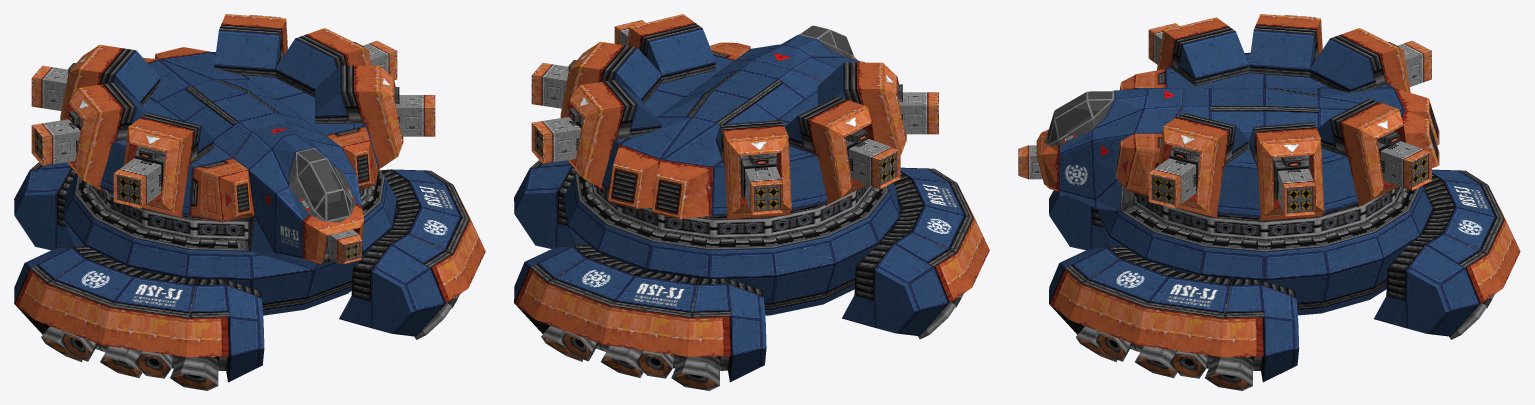
File: falcon.glb
3 views of the same model, side by side, from view 1: azimuth 30°, elevation 25°; view 2: azimuth 150°, elevation 25°; view 3: azimuth 270°, elevation 25° (orthographic).
Visible parts, largest first — view 1: Blue Falcon; view 2: Blue Falcon; view 3: Blue Falcon.
Part boxes in pixels (x1,y1,x2,y2): Blue Falcon: (14,14,485,390); Blue Falcon: (514,14,989,390); Blue Falcon: (1018,14,1520,390).
Bounding box in the file's own units: 97.51 × 48.78 × 97.85.
Materials: 3 (3 with a texture image).
